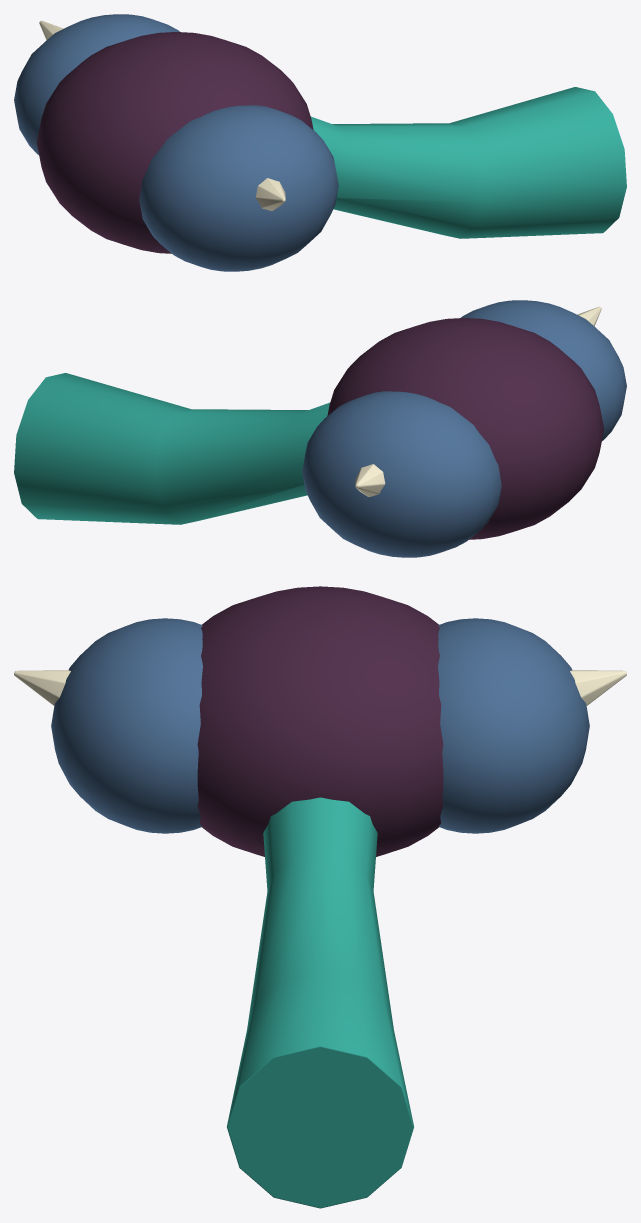
File: tail_hammer.glb
3 renders of one model, top to bottom at view 1: azimuth 30°, elevation 25°; view 2: azimuth 150°, elevation 25°; view 3: azimuth 270°, elevation 25°, orthographic. The views are drawn at different scales.
Visible parts, largest first — view 1: tail_hammer; view 2: tail_hammer; view 3: tail_hammer.
Part boxes in pixels (bbox=[...]): tail_hammer: bbox=[14, 14, 626, 271]; tail_hammer: bbox=[14, 300, 626, 557]; tail_hammer: bbox=[14, 586, 626, 1208].
Size of the model in its own units: 1.92 by 0.9487 by 1.5.
